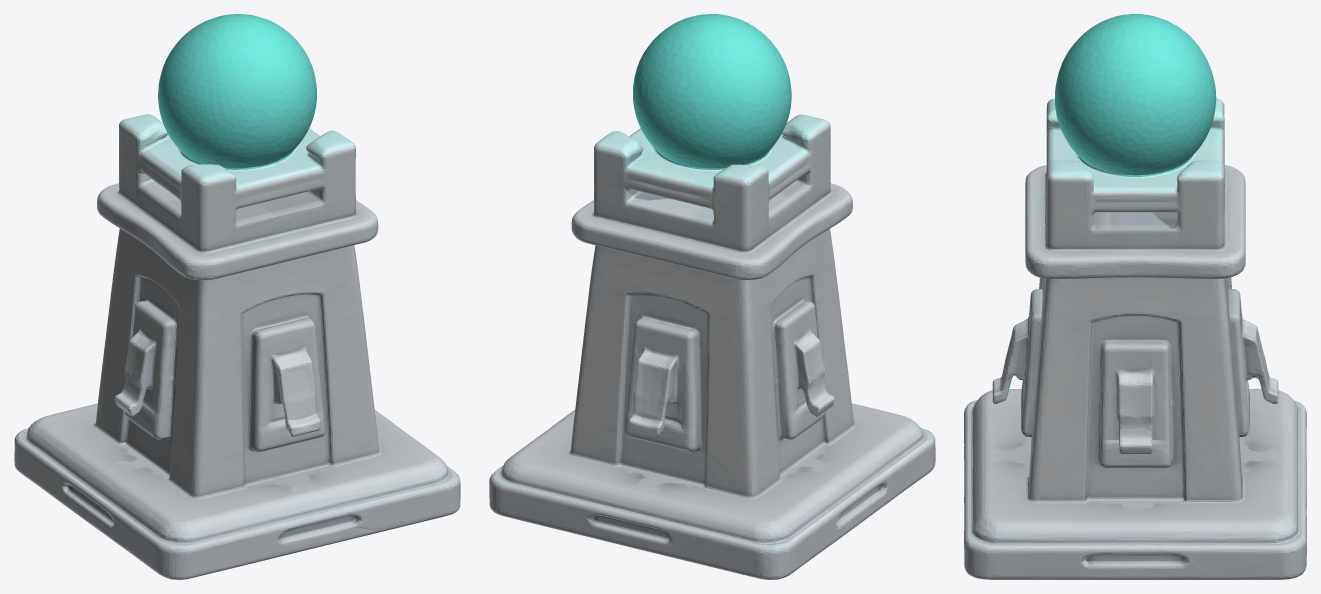
The model's file is turret_team_dream.glb.
3 views of the same model, side by side, from view 1: azimuth 30°, elevation 25°; view 2: azimuth 150°, elevation 25°; view 3: azimuth 270°, elevation 25° (orthographic). The views are drawn at different scales.
Visible parts, largest first — view 1: tmpfqsx9suj.ply; view 2: tmpfqsx9suj.ply; view 3: tmpfqsx9suj.ply.
Boxes of the visible parts, x1,y1,x2,y2 form: tmpfqsx9suj.ply: [14, 14, 460, 579]; tmpfqsx9suj.ply: [489, 14, 935, 579]; tmpfqsx9suj.ply: [964, 14, 1306, 579].
Size of the model in its own units: 1.34 by 1.99 by 1.28.
Materials: 1 (1 with a texture image).
